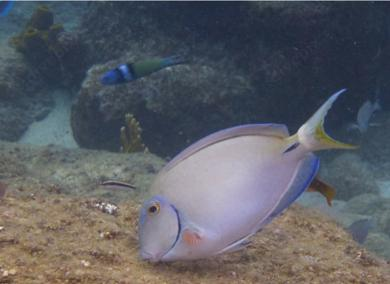Acanthuridae -Surgeonfishes-: (137, 86, 360, 265)
